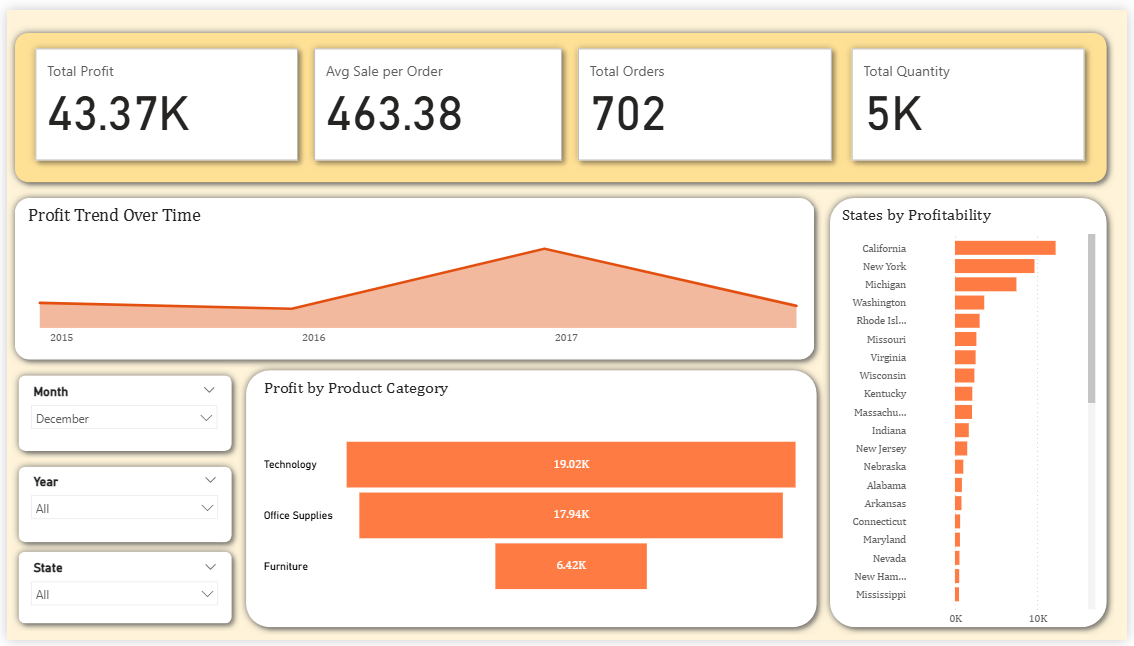

The page's visual inventory and layout, read from the dashboard file:
{"tool":"powerbi","page":{"name":"Page 2","canvas":[1280,720],"ordinal":1},"visuals":[{"type":"shape","box":[4.6,512.9,261.4,104.3],"z":0},{"type":"shape","box":[4.3,610,261.4,100],"z":1000},{"type":"shape","box":[264.6,402.9,670,311.4],"z":2000},{"type":"shape","box":[4.6,408.6,261.4,104.3],"z":3000},{"type":"shape","box":[931.4,205.7,334.3,508.6],"z":4000},{"type":"shape","box":[0,205.7,931.4,202.9],"z":5000},{"type":"shape","box":[0,17.1,1265.7,188.6],"z":6000},{"type":"cardVisual","fields":{"Data":["public superstore.Total Profit"]},"box":[15.7,27.6,334.3,162.9],"z":7000},{"type":"cardVisual","fields":{"Data":["public superstore.Total Orders"]},"box":[635.7,27.6,324.3,162.9],"z":8000},{"type":"slicer","fields":{"Values":["public superstore.Year"]},"box":[17.5,525.8,234.3,78.6],"z":9000},{"type":"slicer","fields":{"Values":["public superstore.state"]},"box":[17.1,624.3,234.3,71.4],"z":10000},{"type":"cardVisual","fields":{"Data":["public superstore.Total Quantity"]},"box":[948.6,27.6,300,162.9],"z":11000},{"type":"slicer","fields":{"Values":["public superstore.Month"]},"box":[17.5,422.9,232.9,77.1],"z":12000},{"type":"lineChart","title":"Profit Trend Over Time","fields":{"Y":["Sum(public superstore.profit)"],"Category":["public superstore.order_date.Variation.Date Hierarchy.Year","public superstore.order_date.Variation.Date Hierarchy.Month"]},"box":[18.9,224.3,902.9,164.3],"z":13000},{"type":"cardVisual","fields":{"Data":["public superstore.Avg Sale per Order"]},"box":[334,27.6,317.1,162.9],"z":14000},{"type":"funnel","title":"Profit by Product Category","fields":{"Category":["public superstore.category"],"Y":["Sum(public superstore.profit)"]},"box":[288.9,421.5,622.9,292.9],"z":15000},{"type":"clusteredBarChart","title":"States by Profitability","fields":{"Y":["Sum(public superstore.profit)"],"Category":["public superstore.state"]},"box":[948.6,224.3,300,485.7],"z":16000}]}

Visuals, with their boxes in screenshot pixels (x1, y1, x2, y2), scaled from the page's 1280x720 canvas onto the 1134x646 screenshot:
shape: [x1=4, y1=460, x2=236, y2=554]
shape: [x1=4, y1=547, x2=235, y2=637]
shape: [x1=234, y1=361, x2=828, y2=641]
shape: [x1=4, y1=367, x2=236, y2=460]
shape: [x1=825, y1=185, x2=1121, y2=641]
shape: [x1=0, y1=185, x2=825, y2=367]
shape: [x1=0, y1=15, x2=1121, y2=185]
cardVisual - public superstore.Total Profit: [x1=14, y1=25, x2=310, y2=171]
cardVisual - public superstore.Total Orders: [x1=563, y1=25, x2=850, y2=171]
slicer - public superstore.Year: [x1=16, y1=472, x2=223, y2=542]
slicer - public superstore.state: [x1=15, y1=560, x2=223, y2=624]
cardVisual - public superstore.Total Quantity: [x1=840, y1=25, x2=1106, y2=171]
slicer - public superstore.Month: [x1=16, y1=379, x2=222, y2=449]
"Profit Trend Over Time" lineChart: [x1=17, y1=201, x2=817, y2=349]
cardVisual - public superstore.Avg Sale per Order: [x1=296, y1=25, x2=577, y2=171]
"Profit by Product Category" funnel: [x1=256, y1=378, x2=808, y2=641]
"States by Profitability" clusteredBarChart: [x1=840, y1=201, x2=1106, y2=637]
